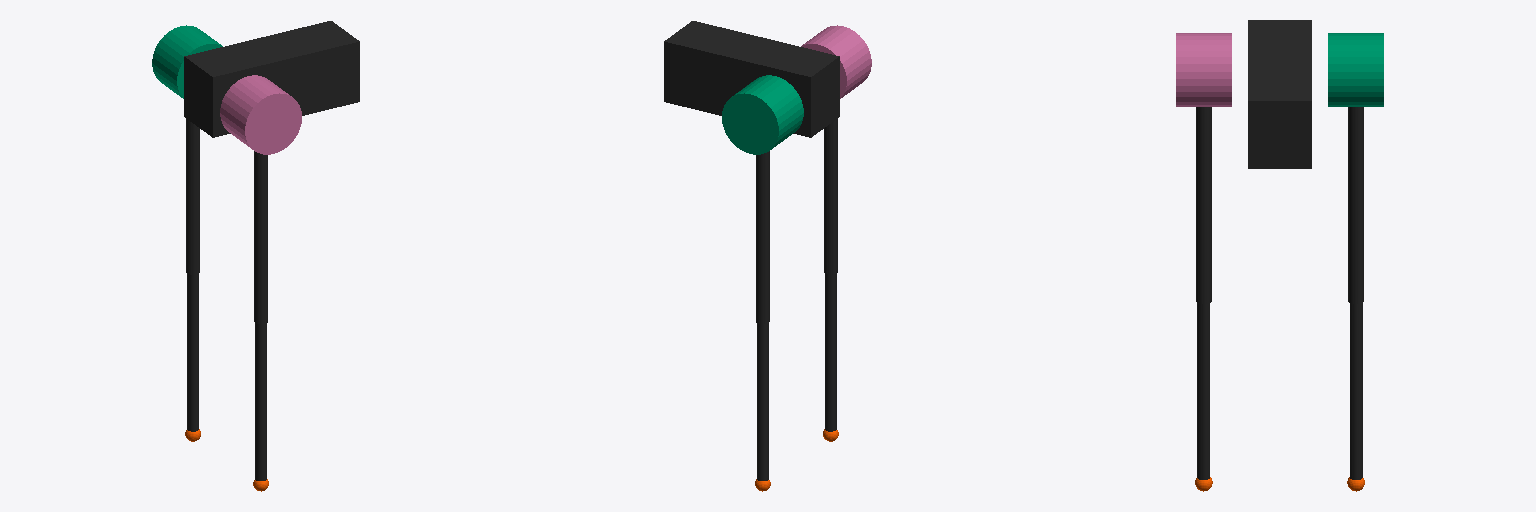
URDF robot description (centaur):
<?xml version="1.0"?>
<robot name="centaur">

  <material name="black">
    <color rgba="0.0 0.0 0.0 0.8"/>
  </material>
  <material name="blue">
    <color rgba="0.0 0.0 0.8 0.8"/>
  </material>
  <material name="green">
    <color rgba="0.0 0.8 0.0 0.2"/>
  </material>
  <material name="grey">
    <color rgba="0.2 0.2 0.2 0.4"/>
  </material>
  <material name="silver">
    <color rgba="0.913725490196 0.913725490196 0.847058823529 0.6"/>
  </material>
  <material name="orange">
    <color rgba="1.0 0.423529411765 0.0392156862745 0.5"/>
  </material>
  <material name="brown">
    <color rgba="0.870588235294 0.811764705882 0.764705882353 0.7"/>
  </material>
  <material name="red">
    <color rgba="0.8 0.0 0.0 1.0"/>
  </material>
  <material name="white">
    <color rgba="1.0 1.0 1.0 1.0"/>
  </material>

  <!-- <link name="world">
    <visual name="visual">
      <origin rpy="0 0 0" xyz="0 0 -0.025"/>
      <geometry>
        <box size="12.0 10.0 0.05"/>
      </geometry>
      <material name="brown"/>
    </visual>
    <collision name="collision">
      <origin rpy="0 0 0" xyz="0 0 -0.025"/>
        <geometry>
        <box size="12.0 10.0 0.05"/>
      </geometry>
    </collision>
  </link>

  <joint name="world_to_base" type="fixed">
    <origin rpy="0 0 0" xyz="0 0 0.905"/>
    <parent link="world"/>
    <child link="floating_base"/>
  </joint> -->

  <link name="floating_base">
    <visual>
      <origin rpy="0 0 0" xyz="0 0 0"/>
        <geometry>
          <box size="0.001 0.001 0.001"/>
        </geometry>
    </visual>    
  </link>

  <joint name="floating_base_to_torso" type="fixed">
    <origin rpy="0 0 0" xyz="0 0 0"/>
    <parent link="floating_base"/>
    <child link="torso"/>
  </joint>

  <link name="torso">
    <visual>
      <origin rpy="0 0 0" xyz="0 0 0"/>
      <geometry>
        <box size="0.432 0.146 0.17"/>
        <!-- <mesh filename="[local-path]/Data/Code/drake/workspace/centaur_sim/centaur_description/meshes/obj/shank.obj" scale="1 1 1"/> -->
      </geometry>
      <material name="grey"/>
    </visual>
    <collision>
      <origin rpy="0 0 0" xyz="0 0 0"/>
      <geometry>
        <box size="0.432 0.146 0.17"/>
      </geometry>
    </collision>
    <inertial>
      <origin rpy="0 0 0" xyz="0.0 0.0 0.0"/>
      <mass value="20.0"/>
      <inertia ixx="0.0837" ixy="0" ixz="0" iyy="0.3592" iyz="0" izz="0.3466"/>
    </inertial>
  </link>  

  <joint name="hind_left_hip_joint" type="revolute">
    <origin rpy="0 0 0" xyz="-0.048 0.173 0"/>
    <parent link="torso"/>
    <child link="hind_left_hip"/>
    <axis xyz="1 0 0"/>
    <dynamics damping="0" friction="0"/>
    <limit effort="140" lower="-0.8028514559173915" upper="0.8028514559173915" velocity="93"/>
  </joint>
  <transmission name="left_abad_trans" type="SimpleTransmission">
    <actuator name="tau_0"/>
    <joint name="hind_left_hip_joint"/>
    <mechanicalReduction>1</mechanicalReduction>
  </transmission>

  <link name="hind_left_hip">
    <visual>
      <origin rpy="1.5707963267948966 0 0" xyz="-0.084 0 0"/>
      <geometry>
        <cylinder length="0.127" radius="0.084"/>
      </geometry>
    </visual>
    <collision>
      <origin rpy="1.5707963267948966 0 0" xyz="-0.084 0 0"/>
      <geometry>
        <cylinder length="0.127" radius="0.084"/>
      </geometry>
    </collision>
    <inertial>
      <origin rpy="1.5707963267948966 0 0" xyz="-0.084 0 0"/>
      <mass value="1.7"/>
      <inertia ixx="0.0053" iyy="0.0053" izz="0.006"/>
    </inertial>
  </link>

  <joint name="hind_left_thigh_joint" type="revolute">
    <origin rpy="0 0 0" xyz="-0.084 0 0"/>
    <parent link="hind_left_hip"/>
    <child link="hind_left_thigh"/>
    <axis xyz="0 1 0"/>
    <dynamics damping="0" friction="0"/>
    <limit effort="140" lower="-0.3" upper="1.2" velocity="93"/>
  </joint>
  <transmission name="left_hip_trans" type="SimpleTransmission">
    <actuator name="tau_1"/>
    <joint name="hind_left_thigh_joint"/>
    <mechanicalReduction>1</mechanicalReduction>
  </transmission>

  <link name="hind_left_thigh">
    <visual>
      <origin rpy="0 0 0" xyz="0 0 -0.29"/>
      <geometry>
        <cylinder length="0.58" radius="0.0175"/>
      </geometry>
      <material name="grey"/>
    </visual>
    <collision>
      <origin rpy="0 0 0" xyz="0 0 -0.29"/>
      <geometry>
        <cylinder length="0.58" radius="0.0175"/>
      </geometry>
    </collision>
    <inertial>
      <origin rpy="0 0 0" xyz="0 0 -0.29"/>
      <mass value="0.5"/>
      <inertia ixx="0.0141" iyy="0.0141" izz="0.0001"/>
    </inertial>
  </link>

  <joint name="hind_left_knee_joint" type="revolute">
    <origin rpy="0 0 0" xyz="0 0 -0.58"/>
    <parent link="hind_left_thigh"/>
    <child link="hind_left_shank"/>
    <axis xyz="0 1 0"/>
    <dynamics damping="0" friction="0"/>
    <limit effort="140" lower="-1.2" upper="0" velocity="93"/>
  </joint>
  <transmission name="left_knee_trans" type="SimpleTransmission">
    <actuator name="tau_2"/>
    <joint name="hind_left_knee_joint"/>
    <mechanicalReduction>1</mechanicalReduction>
  </transmission>

  <link name="hind_left_shank">
    <visual>
      <origin rpy="0 0 0" xyz="0 0 -0.2225"/>
      <geometry>
        <cylinder length="0.445" radius="0.015"/>
      </geometry>
      <material name="grey"/>
    </visual>
    <collision>
      <origin rpy="0 0 0" xyz="0 0 -0.2225"/>
      <geometry>
        <cylinder length="0.445" radius="0.015"/>
      </geometry>
    </collision>
    <inertial>
      <origin rpy="0 0 0" xyz="0 0 -0.2225"/>
      <mass value="0.5"/>
      <inertia ixx="0.0083" iyy="0.0083" izz="0.0001"/>
    </inertial>
  </link>

  <joint name="left_foot_fixed_joint" type="fixed">
    <origin rpy="0 0 0" xyz="0 0 -0.455"/>
    <parent link="hind_left_shank"/>
    <child link="hind_left_foot"/>
  </joint>

  <link name="hind_left_foot">
    <visual>
      <origin rpy="0 0 0" xyz="0 0 0"/>
      <geometry>
        <sphere radius="0.02"/>
      </geometry>
      <material name="orange"/>
    </visual>
    <collision>
      <origin rpy="0 0 0" xyz="0 0 -0.02"/>
      <geometry>
        <sphere radius="0.02"/>
      </geometry>
    </collision>
  </link>
  
  <!-- right side -->

  <joint name="hind_right_hip_joint" type="revolute">
    <origin rpy="0 0 0" xyz="-0.048 -0.173 0"/>
    <parent link="torso"/>
    <child link="hind_right_hip"/>
    <axis xyz="1 0 0"/>
    <dynamics damping="0" friction="0"/>
    <limit effort="140" lower="-0.8028514559173915" upper="0.8028514559173915" velocity="93"/>
  </joint>
  <transmission name="right_abad_trans" type="SimpleTransmission">
    <actuator name="tau_3"/>
    <joint name="hind_right_hip_joint"/>
    <mechanicalReduction>1</mechanicalReduction>
  </transmission>

  <link name="hind_right_hip">
    <visual>
      <origin rpy="1.5707963267948966 0 0" xyz="-0.084 0 0"/>
      <geometry>
        <cylinder length="0.127" radius="0.084"/>
      </geometry>
    </visual>
    <collision>
      <origin rpy="1.5707963267948966 0 0" xyz="-0.084 0 0"/>
      <geometry>
        <cylinder length="0.127" radius="0.084"/>
      </geometry>
    </collision>
    <inertial>
      <origin rpy="1.5707963267948966 0 0" xyz="-0.084 0 0"/>
      <mass value="1.7"/>
      <inertia ixx="0.0053" iyy="0.0053" izz="0.006"/>
    </inertial>
  </link>

  <joint name="hind_right_thigh_joint" type="revolute">
    <origin rpy="0 0 0" xyz="-0.084 0 0"/>
    <parent link="hind_right_hip"/>
    <child link="hind_right_thigh"/>
    <axis xyz="0 1 0"/>
    <dynamics damping="0" friction="0"/>
    <limit effort="140" lower="-0.3" upper="1.2" velocity="93"/>
  </joint>
  <transmission name="right_hip_trans" type="SimpleTransmission">
    <actuator name="tau_4"/>
    <joint name="hind_right_thigh_joint"/>
    <mechanicalReduction>1</mechanicalReduction>
  </transmission>

  <link name="hind_right_thigh">
    <visual>
      <origin rpy="0 0 0" xyz="0 0 -0.29"/>
      <geometry>
        <cylinder length="0.58" radius="0.0175"/>
      </geometry>
      <material name="grey"/>
    </visual>
    <collision>
      <origin rpy="0 0 0" xyz="0 0 -0.29"/>
      <geometry>
        <cylinder length="0.58" radius="0.0175"/>
      </geometry>
    </collision>
    <inertial>
      <origin rpy="0 0 0" xyz="0 0 -0.29"/>
      <mass value="0.5"/>
      <inertia ixx="0.0141" iyy="0.0141" izz="0.0001"/>
    </inertial>
  </link>

  <joint name="hind_right_knee_joint" type="revolute">
    <origin rpy="0 0 0" xyz="0 0 -0.58"/>
    <parent link="hind_right_thigh"/>
    <child link="hind_right_shank"/>
    <axis xyz="0 1 0"/>
    <dynamics damping="0" friction="0"/>
    <limit effort="140" lower="-1.2" upper="0" velocity="93"/>
  </joint>
  <transmission name="right_knee_trans" type="SimpleTransmission">
    <actuator name="tau_5"/>
    <joint name="hind_right_knee_joint"/>
    <mechanicalReduction>1</mechanicalReduction>
  </transmission>

  <link name="hind_right_shank">
    <visual>
      <origin rpy="0 0 0" xyz="0 0 -0.2225"/>
      <geometry>
        <cylinder length="0.445" radius="0.015"/>
      </geometry>
      <material name="grey"/>
    </visual>
    <collision>
      <origin rpy="0 0 0" xyz="0 0 -0.2225"/>
      <geometry>
        <cylinder length="0.445" radius="0.015"/>
      </geometry>
    </collision>
    <inertial>
      <origin rpy="0 0 0" xyz="0 0 -0.2225"/>
      <mass value="0.5"/>
      <inertia ixx="0.0083" iyy="0.0083" izz="0.0001"/>
    </inertial>
  </link>

  <joint name="right_foot_fixed_joint" type="fixed">
    <origin rpy="0 0 0" xyz="0 0 -0.455"/>
    <parent link="hind_right_shank"/>
    <child link="hind_right_foot"/>
  </joint>

  <link name="hind_right_foot">
    <visual>
      <origin rpy="0 0 0" xyz="0 0 0"/>
      <geometry>
        <sphere radius="0.02"/>
      </geometry>
      <material name="orange"/>
    </visual>
    <collision>
      <origin rpy="0 0 0" xyz="0 0 -0.02"/>
      <geometry>
        <sphere radius="0.02"/>
      </geometry>
    </collision>
  </link>
  








  





</robot>

--- What the picture shows (computed from the rendered views, not written in the file) ---
3 views of the same robot in one strip: view 1: azimuth 30°, elevation 25°; view 2: azimuth 150°, elevation 25°; view 3: azimuth 270°, elevation 25° (orthographic).
Robot: centaur — 10 links, 9 joints (6 revolute, 3 fixed); root link floating_base; default pose: every joint at zero.
Visible links, largest first — view 1: torso, hind_right_hip, hind_right_thigh, hind_left_hip, hind_left_thigh, hind_left_shank, hind_right_shank; view 2: torso, hind_left_hip, hind_left_thigh, hind_right_hip, hind_right_thigh, hind_left_shank, hind_right_shank; view 3: torso, hind_left_hip, hind_right_hip, hind_left_thigh, hind_right_thigh, hind_left_shank, hind_right_shank.
Link boxes in pixels (bbox=[...]): torso: bbox=[184, 21, 359, 137]; hind_right_hip: bbox=[220, 75, 301, 154]; hind_right_thigh: bbox=[254, 151, 267, 324]; hind_left_hip: bbox=[152, 25, 222, 98]; hind_left_thigh: bbox=[186, 119, 199, 274]; hind_left_shank: bbox=[187, 273, 198, 431]; hind_right_shank: bbox=[255, 323, 266, 480]; torso: bbox=[664, 21, 839, 137]; hind_left_hip: bbox=[722, 75, 803, 154]; hind_left_thigh: bbox=[756, 151, 769, 324]; hind_right_hip: bbox=[801, 25, 871, 98]; hind_right_thigh: bbox=[824, 119, 837, 274]; hind_left_shank: bbox=[757, 323, 768, 480]; hind_right_shank: bbox=[825, 273, 836, 431]; torso: bbox=[1248, 20, 1311, 168]; hind_left_hip: bbox=[1328, 33, 1383, 106]; hind_right_hip: bbox=[1176, 33, 1231, 106]; hind_left_thigh: bbox=[1348, 107, 1363, 304]; hind_right_thigh: bbox=[1196, 107, 1211, 304]; hind_left_shank: bbox=[1350, 303, 1362, 479]; hind_right_shank: bbox=[1197, 303, 1209, 479].
Bounding box of the posed robot: 0.432 × 0.473 × 1.14 m (x, y, z).
Geometry: primitives only (box / cylinder / sphere), no mesh files.